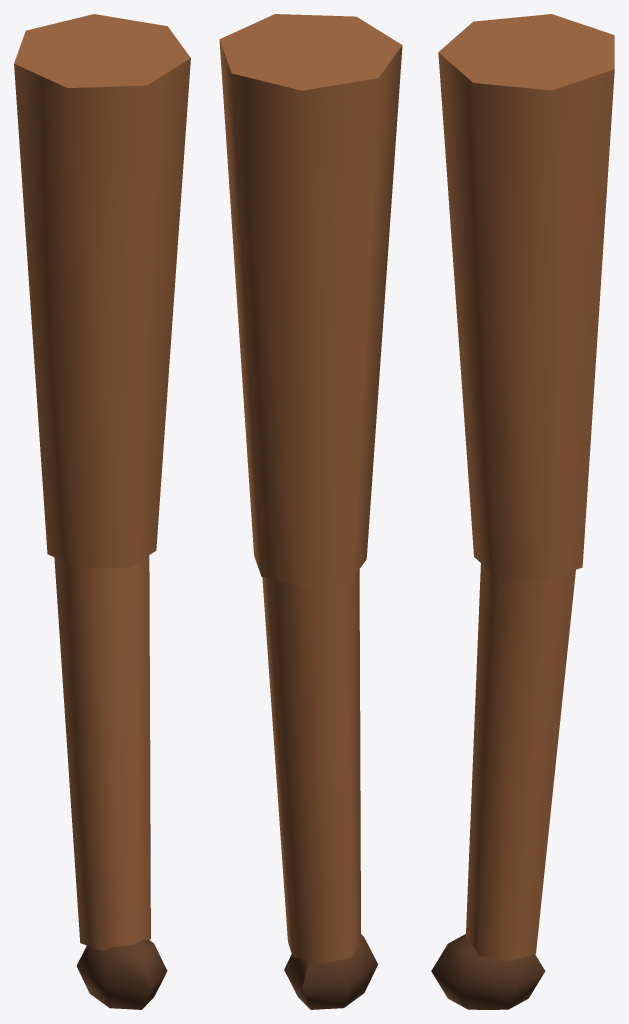
The model's file is Deer_LegFL.fbx.
The picture shows the model from 3 angles, left to right: view 1: azimuth 30°, elevation 25°; view 2: azimuth 150°, elevation 25°; view 3: azimuth 270°, elevation 25°; orthographic projection. The views are drawn at different scales.
Parts seen in each view (by area): view 1: Deer_LegFL_EXP; view 2: Deer_LegFL_EXP; view 3: Deer_LegFL_EXP.
Boxes of the visible parts, bbox=[...] form: Deer_LegFL_EXP: bbox=[14, 14, 190, 1009]; Deer_LegFL_EXP: bbox=[219, 14, 402, 1009]; Deer_LegFL_EXP: bbox=[431, 14, 614, 1009].
Bounding box in the file's own units: 0.1267 × 0.74 × 0.1286.
